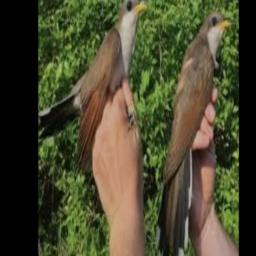Cuckoo: (38, 0, 147, 178), (157, 11, 231, 256)
